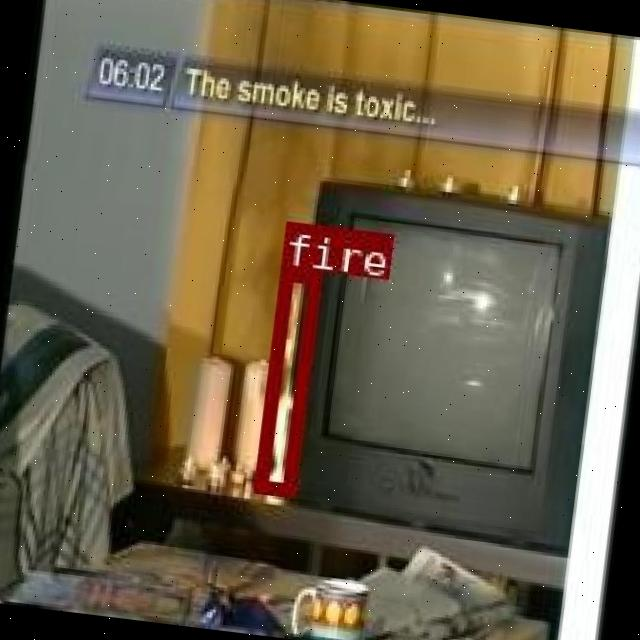fire: (252, 265, 320, 495)
